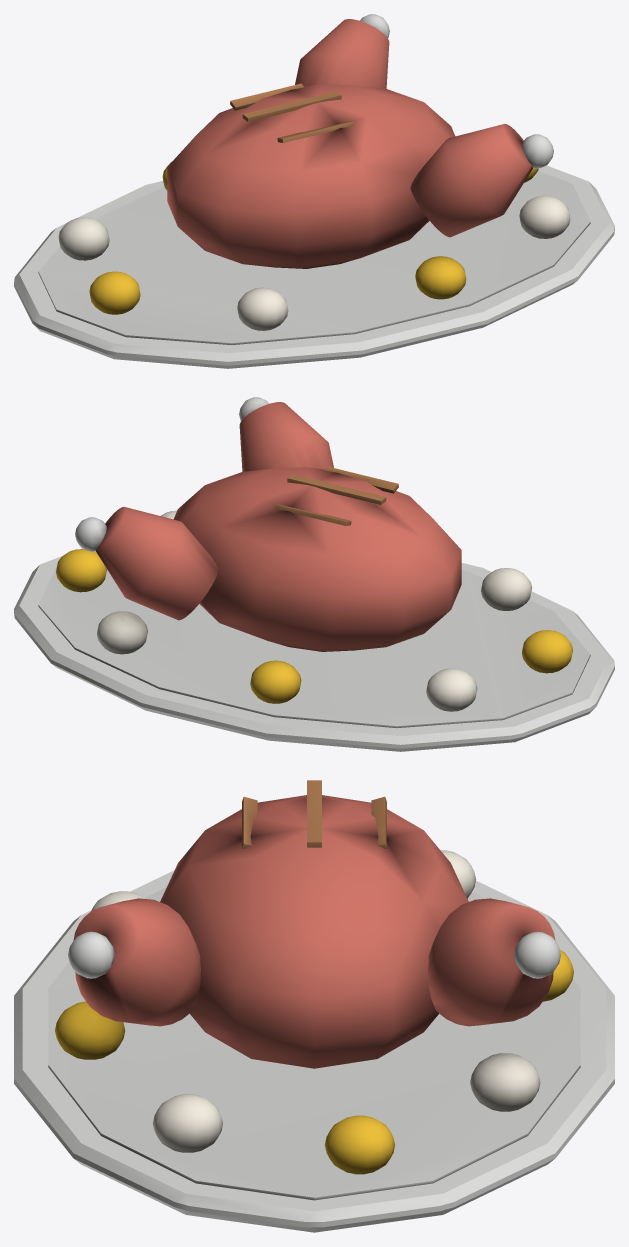
File: meal_roast.glb
3 renders of one model, top to bottom at view 1: azimuth 30°, elevation 25°; view 2: azimuth 150°, elevation 25°; view 3: azimuth 270°, elevation 25°, orthographic. The views are drawn at different scales.
Parts seen in each view (by area): view 1: PART; view 2: PART; view 3: PART.
Boxes of the visible parts, x1,y1,x2,y2 form: PART: (14, 14, 614, 368); PART: (14, 397, 614, 751); PART: (14, 780, 614, 1232).
Size of the model in its own units: 0.2981 by 0.0843 by 0.2047.
